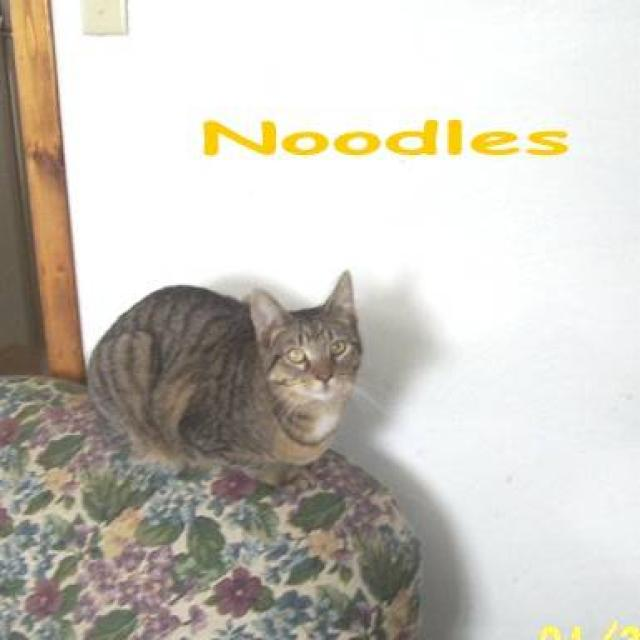cat: (85, 268, 362, 487)
